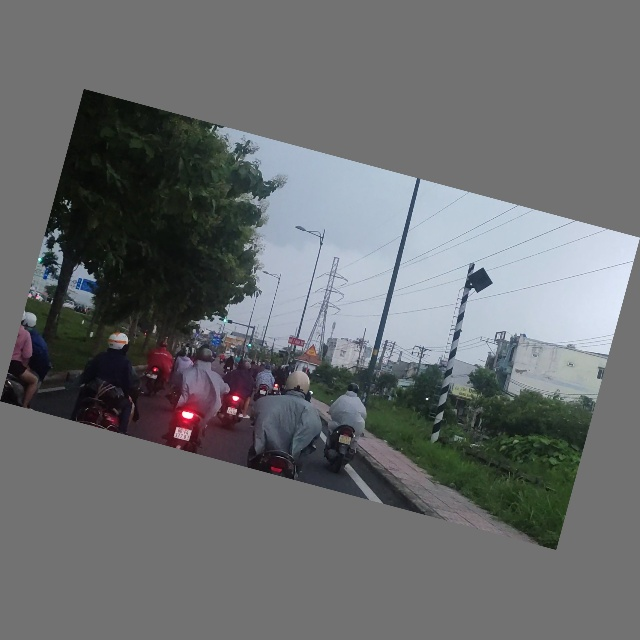W.210: (304, 343, 320, 359)
